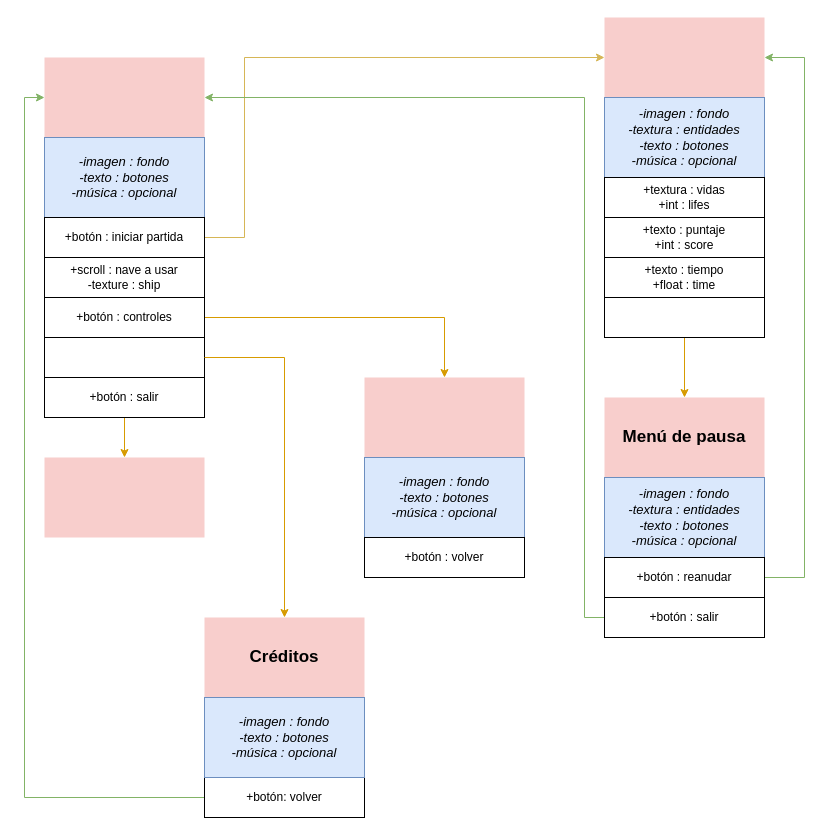
Image size: 830x835. Some labels were removed from this diagram. Here are the shapes that lost their labels. From the top down, the box of each, then its label:
(604, 17, 764, 97): Nivel
(44, 57, 204, 137): Menú principal
(604, 296, 764, 338): +botón : pausa
(44, 336, 204, 378): +botón : créditos
(364, 377, 524, 457): Controles
(44, 457, 204, 537): Salida
